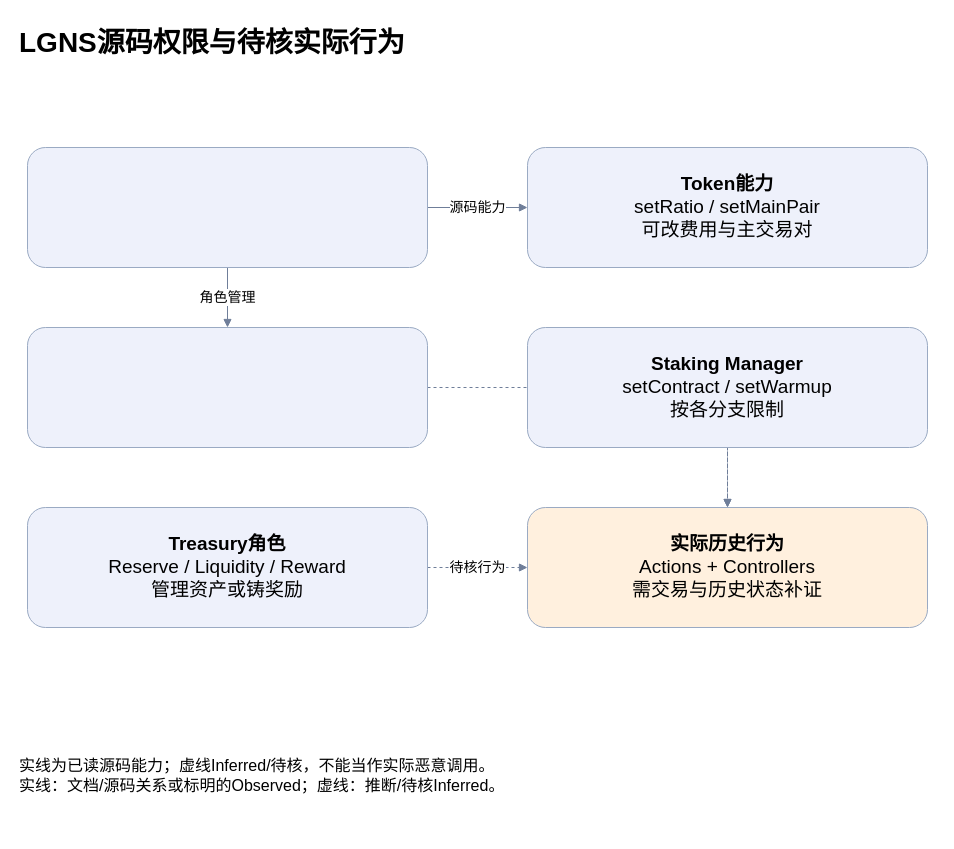
Image size: 954x849. Some labels were removed from this diagram. Here are the shapes that lost their labels. From the top down, the centre of each, then its label:
(x=227, y=207): 默认管理员 DEFAULT_ADMIN_ROLE 当前成员未指定高度读取
(x=227, y=387): MINT角色 onlyVault / MINT 可增发LGNS
